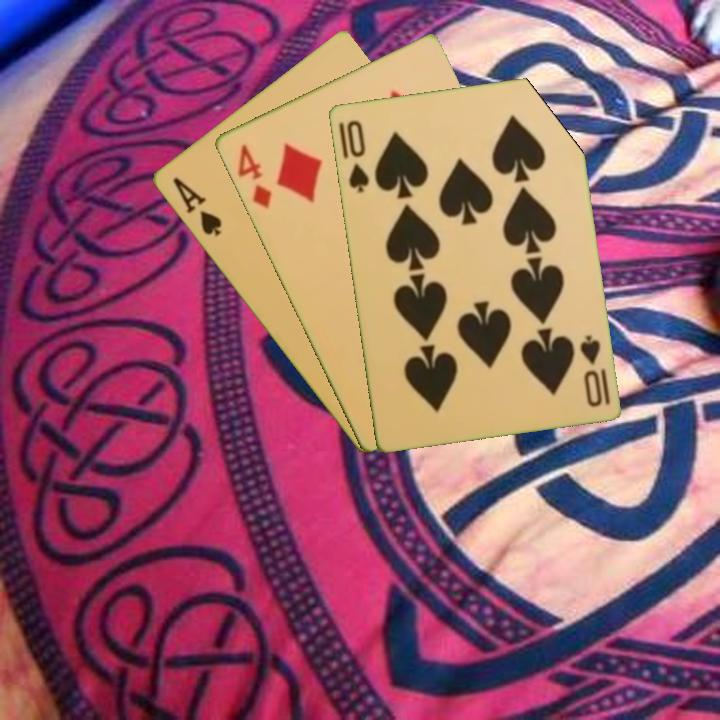10s: (576, 331, 613, 410), (342, 116, 372, 195)
4d: (233, 140, 275, 212)
As: (168, 173, 225, 239)
